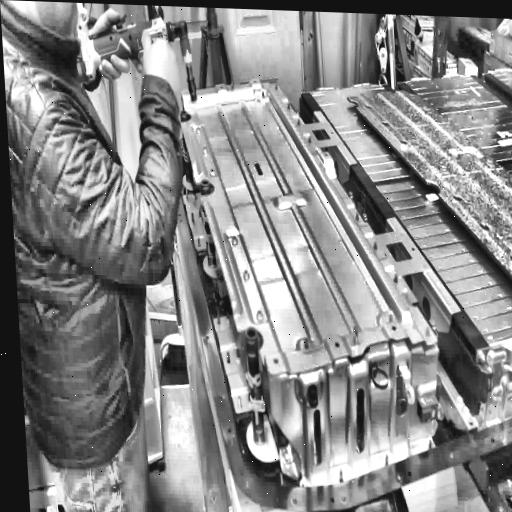battery_module: (174, 80, 440, 380)
